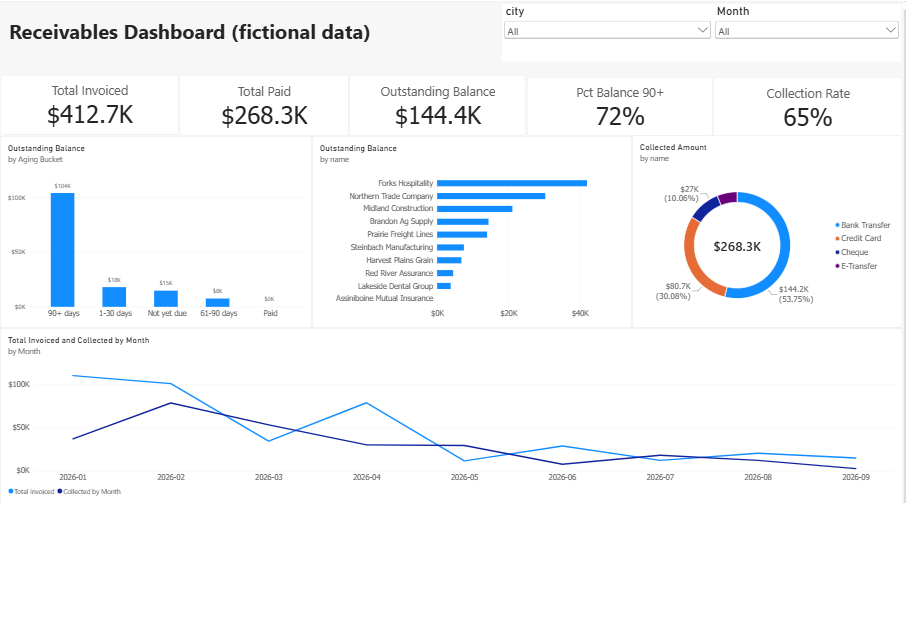

The page's visual inventory and layout, read from the dashboard file:
{"tool":"powerbi","page":{"name":"Receivables Dashboard","canvas":[1920,1080],"ordinal":0},"visuals":[{"type":"cardVisual","fields":{"Data":["Key Measures.Total Invoiced"]},"box":[0,163.7,380.6,127.6],"z":0},{"type":"cardVisual","fields":{"Data":["Key Measures.Total Paid"]},"box":[380.6,163.7,361.4,129.7],"z":1000},{"type":"cardVisual","fields":{"Data":["Key Measures.Outstanding Balance"]},"box":[742,163.7,376.3,129.7],"z":2000},{"type":"cardVisual","fields":{"Data":["Key Measures.Collection Rate"]},"box":[1515.8,168,403.9,129.7],"z":3000},{"type":"cardVisual","fields":{"Data":["Key Measures.Pct Balance 90+"]},"box":[1120.4,168,395.4,125.4],"z":4000},{"type":"lineClusteredColumnComboChart","fields":{"Category":["invoices.Aging Bucket"],"Y":["Key Measures.Outstanding Balance"]},"box":[0,293.4,663.3,408.2],"z":6000},{"type":"clusteredBarChart","fields":{"Category":["clients.name"],"Y":["Key Measures.Outstanding Balance"]},"box":[663.3,293.4,680.3,408.2],"z":7000},{"type":"donutChart","fields":{"Category":["payment_methods.name"],"Y":["Key Measures.Collected Amount"]},"box":[1343.6,291.3,576.1,410.3],"z":8000},{"type":"lineChart","fields":{"Category":["Calendar.Month"],"Y":["Key Measures.Total Invoiced","Key Measures.Collected by Month"]},"box":[0,701.6,1919.8,378.4],"z":9000},{"type":"slicer","fields":{"Values":["Calendar.Month"]},"box":[1520.1,12.8,399.7,123.3],"z":10000},{"type":"slicer","fields":{"Values":["clients.city"]},"box":[1067.2,12.8,448.6,123.3],"z":11000},{"type":"textbox","box":[19.1,40.4,907.8,65.9],"z":11001}]}

Visuals, with their boxes on the page's 1920x1080 design canvas (x1, y1, x2, y2). These are canvas units, not pixel positions in the 906x627 screenshot, which may show the page scaled, cropped or inside an application window:
cardVisual - Key Measures.Total Invoiced: 0/164/381/291
cardVisual - Key Measures.Total Paid: 381/164/742/293
cardVisual - Key Measures.Outstanding Balance: 742/164/1118/293
cardVisual - Key Measures.Collection Rate: 1516/168/1920/298
cardVisual - Key Measures.Pct Balance 90+: 1120/168/1516/293
lineClusteredColumnComboChart - invoices.Aging Bucket x Key Measures.Outstanding Balance: 0/293/663/702
clusteredBarChart - clients.name x Key Measures.Outstanding Balance: 663/293/1344/702
donutChart - payment_methods.name x Key Measures.Collected Amount: 1344/291/1920/702
lineChart - Calendar.Month x Key Measures.Total Invoiced: 0/702/1920/1080
slicer - Calendar.Month: 1520/13/1920/136
slicer - clients.city: 1067/13/1516/136
textbox: 19/40/927/106
